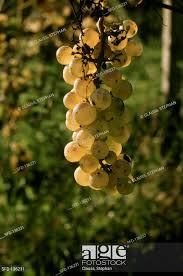grapes: (54, 15, 149, 201)
